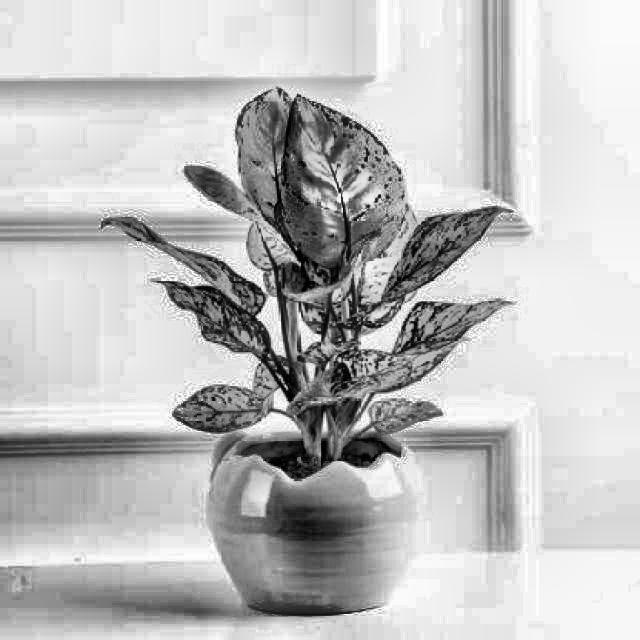plants: (208, 89, 420, 614)
